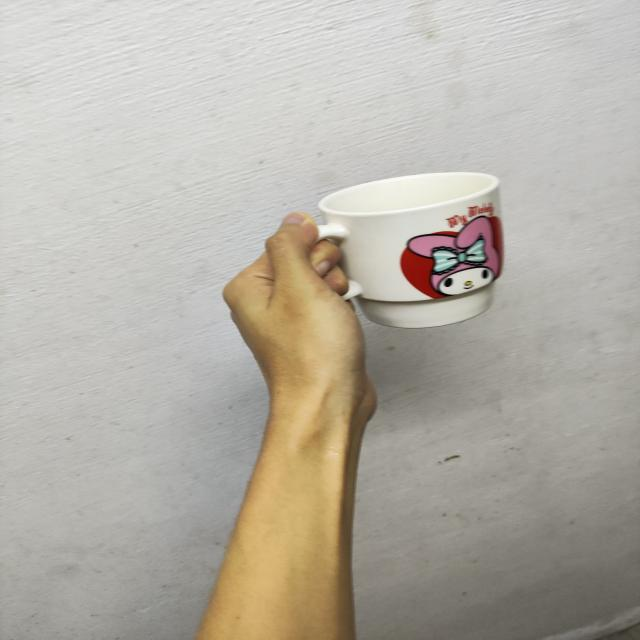cup: (275, 164, 542, 333)
